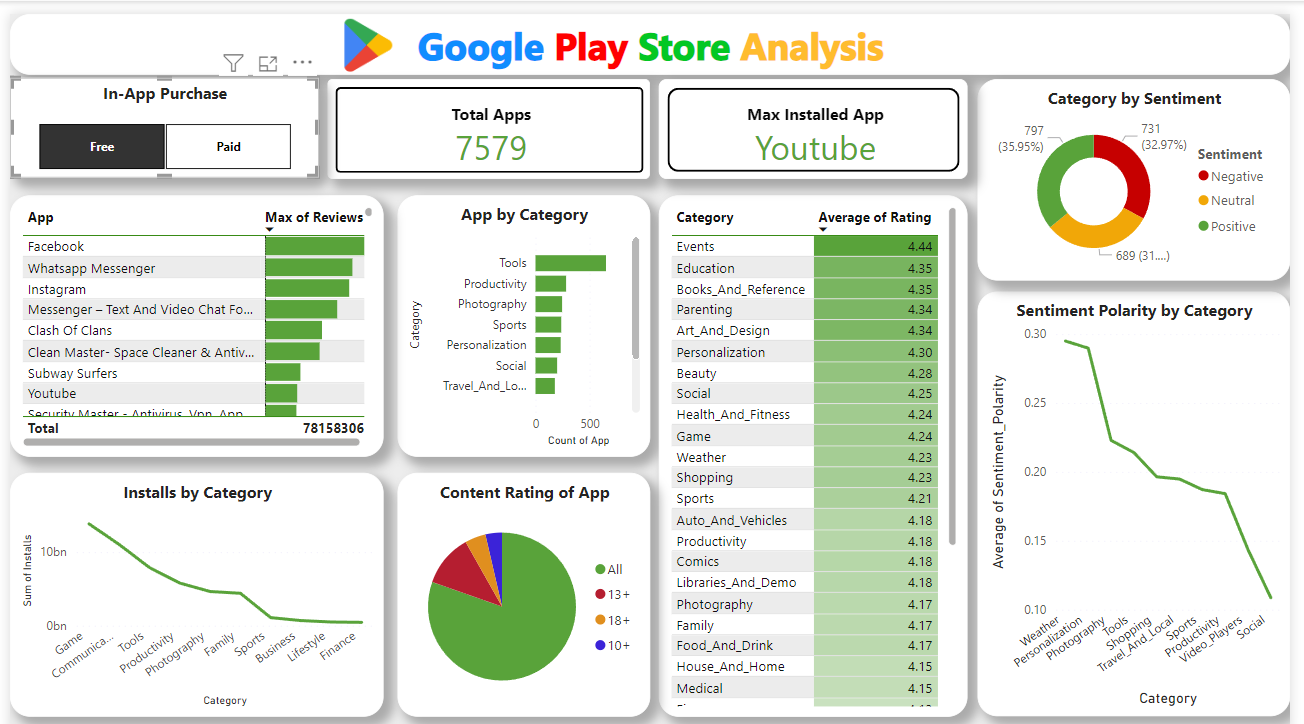

The page's visual inventory and layout, read from the dashboard file:
{"tool":"powerbi","page":{"name":"Page 1","canvas":[1280,720],"ordinal":0},"visuals":[{"type":"textbox","box":[0,0,1279.8,60.9],"z":0},{"type":"cardVisual","title":"Total Category","fields":{"Data":["googleplaystore.Total Apps"]},"box":[317.5,65,322.5,100],"z":1000},{"type":"clusteredBarChart","title":"App by Category","fields":{"Category":["googleplaystore.Category"],"Y":["CountNonNull(googleplaystore.App)"]},"box":[387.5,181.2,252.5,261.2],"z":2000},{"type":"tableEx","title":"Reviews by App","fields":{"Values":["googleplaystore.App","Max(googleplaystore.Reviews)"]},"box":[0,181.2,373.8,261.2],"z":3000},{"type":"tableEx","fields":{"Values":["googleplaystore.Category","Avg(googleplaystore.Rating)"]},"box":[648.8,181.2,308.8,521.2],"z":4000},{"type":"lineChart","title":"Installs by Category","fields":{"Category":["googleplaystore.Category"],"Y":["Sum(googleplaystore.Installs)"]},"box":[0,458.8,373.8,243.8],"z":5000},{"type":"lineChart","title":"Sentiment Polarity by Category","fields":{"Category":["googleplaystore.Category"],"Y":["Avg(googleplaystore_user_reviews.Sentiment_Polarity)"]},"box":[967.5,277.5,312.5,425],"z":6000},{"type":"donutChart","title":"Category by Sentiment","fields":{"Category":["googleplaystore_user_reviews.Sentiment"],"Y":["CountNonNull(googleplaystore.Category)"]},"box":[967.5,65,312.5,201.2],"z":7000},{"type":"slicer","title":"In-App Purchase","fields":{"Values":["googleplaystore.Type"]},"box":[0,63.8,308.8,100],"z":8000},{"type":"image","box":[309,0,99.2,62.4],"z":9000},{"type":"cardVisual","fields":{"Data":["googleplaystore.Max Installed App"]},"box":[648.8,65,308.8,100],"z":10000},{"type":"pieChart","title":"Content Rating of App","fields":{"Category":["googleplaystore.Content Rating"],"Y":["CountNonNull(googleplaystore.App)"]},"box":[388,459,253,244],"z":11000}]}

Visuals, with their boxes in screenshot pixels (x1, y1, x2, y2), scaled from the page's 1280x720 canvas onto the 1304x724 screenshot:
textbox: 0 0 1303 61
"Total Category" cardVisual: 323 65 652 166
"App by Category" clusteredBarChart: 395 182 652 445
"Reviews by App" tableEx: 0 182 381 445
tableEx - googleplaystore.Category x Avg(googleplaystore.Rating): 661 182 976 706
"Installs by Category" lineChart: 0 461 381 707
"Sentiment Polarity by Category" lineChart: 986 279 1303 706
"Category by Sentiment" donutChart: 986 65 1303 268
"In-App Purchase" slicer: 0 64 315 165
image: 315 0 416 63
cardVisual - googleplaystore.Max Installed App: 661 65 976 166
"Content Rating of App" pieChart: 395 462 653 707
